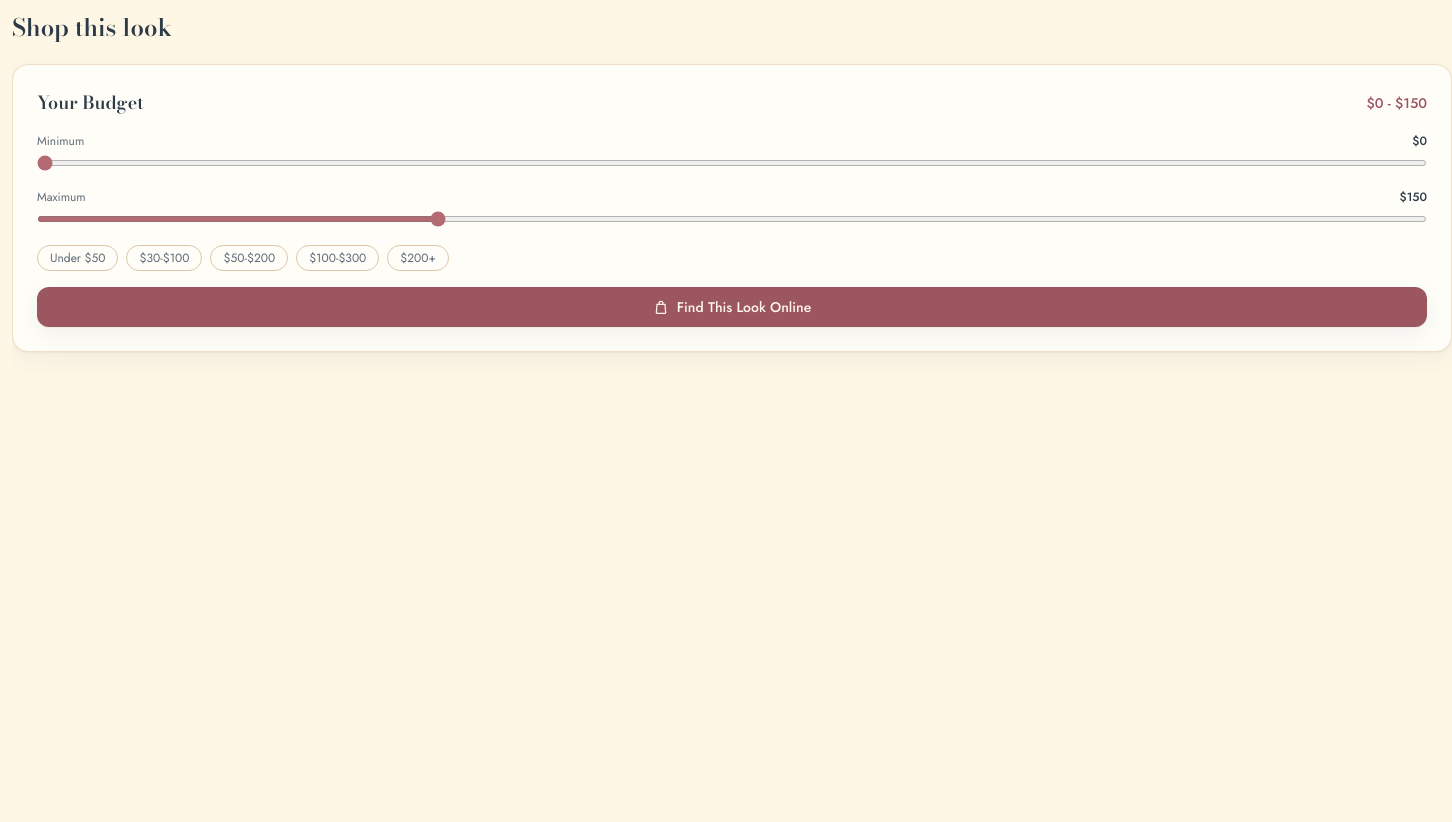
empty in-budget results point to stretch picks, and back
Click the button "Find This Look Online": (732, 307) [37,287,1427,327]
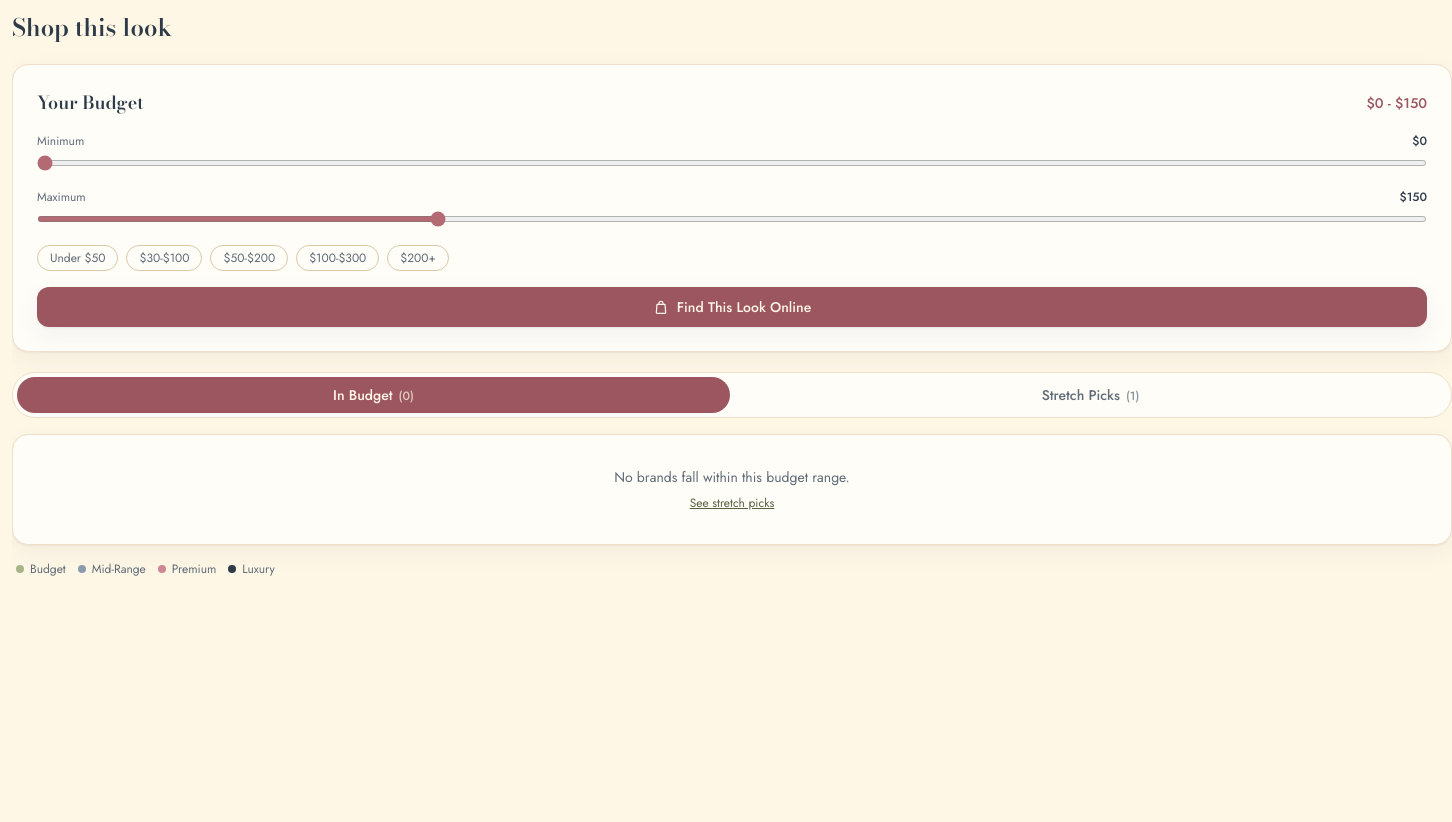
Expected: the text "No brands fall within this budget range. See stretch picks" is shown, [12,434,1451,545]
Click the button "See stretch picks": (732, 503) [690,495,774,511]
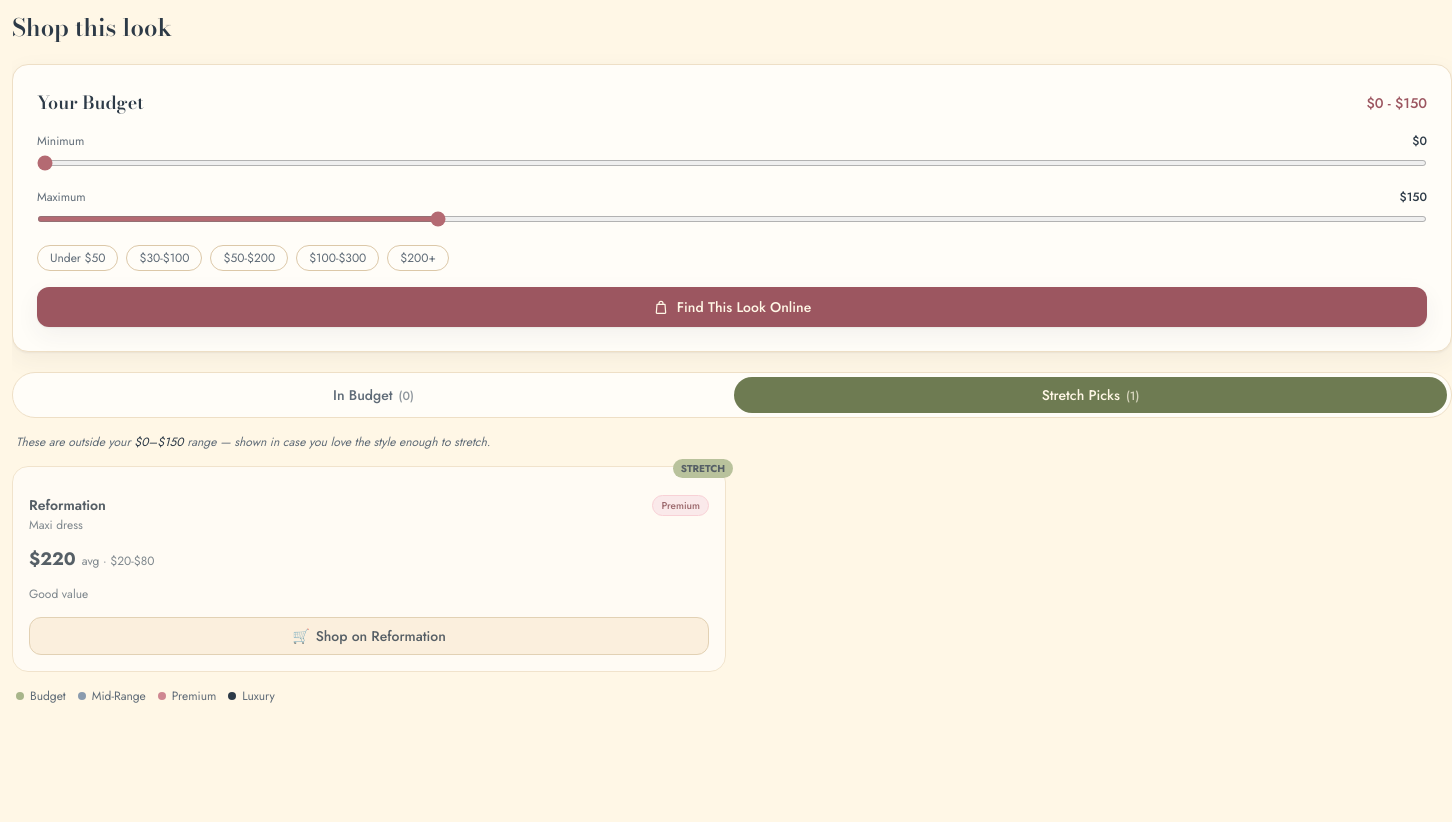
Expected: the text "Reformation" is shown, [29,495,106,515]
Expected: the text "No brands fall within" is gone
Click the button "In Budget(0)": (374, 395) [17,377,730,413]
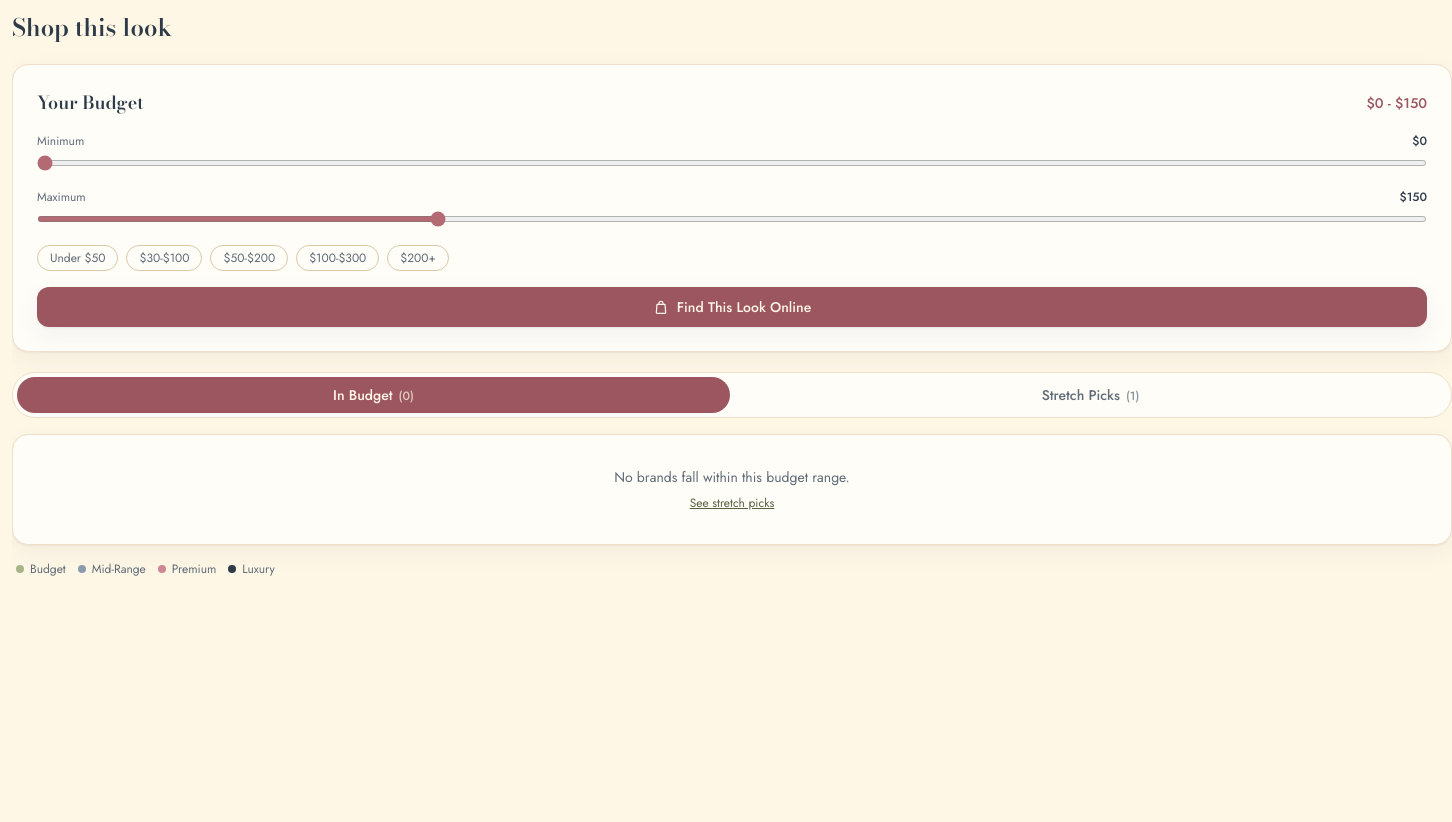
Expected: the text "Reformation" is gone
Expected: the text "No brands fall within this budget range. See stretch picks" is shown, [12,434,1451,545]
